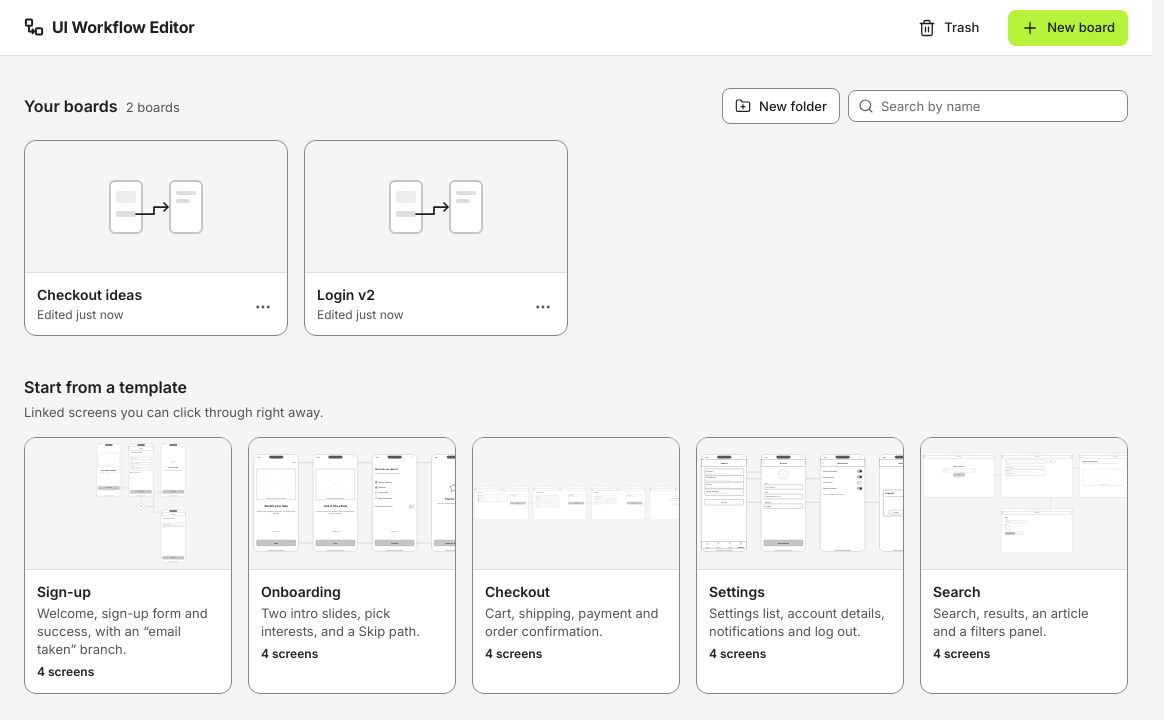
Test: DashboardPage › filters by name and offers to clear the search
Type "CHECK" into the search field named "Search boards" at (988, 106), box [848,90,1128,122]
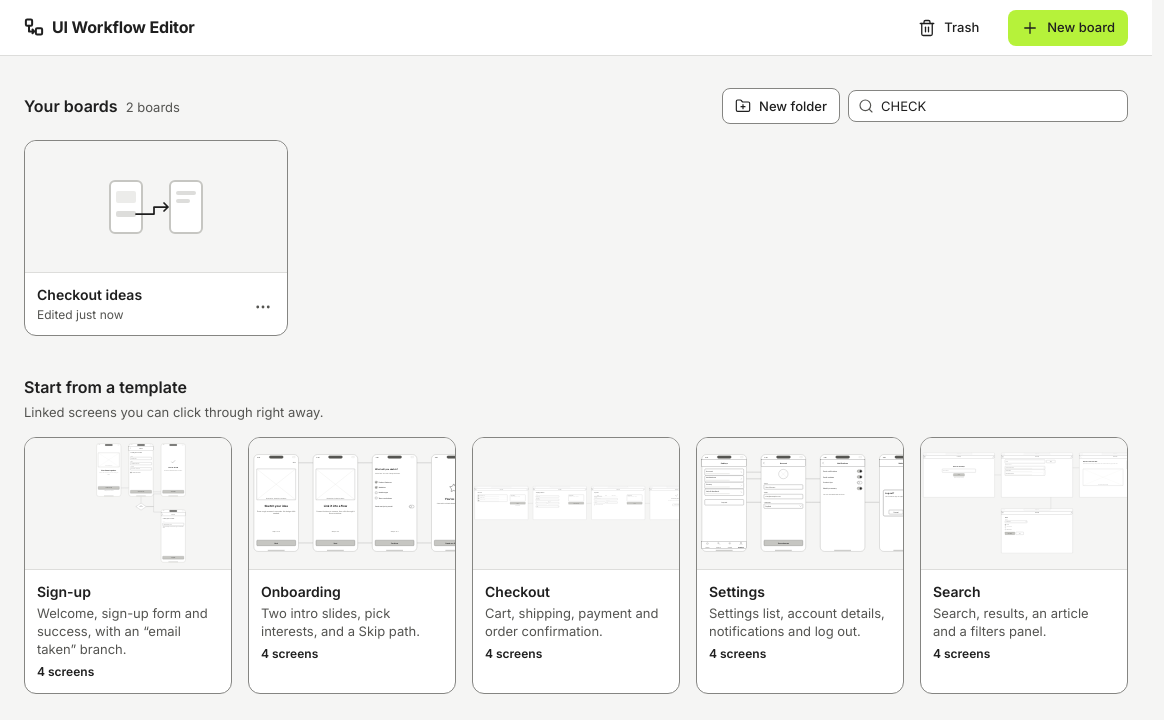
Expected: the number of list items with test id "board-card" is 1, [24,140,288,336]
Expected: the text "Checkout ideas" is shown, [37,286,142,303]
Replace the text in the search field named "Search boards" with "zzz" at (988, 106), box [848,90,1128,122]
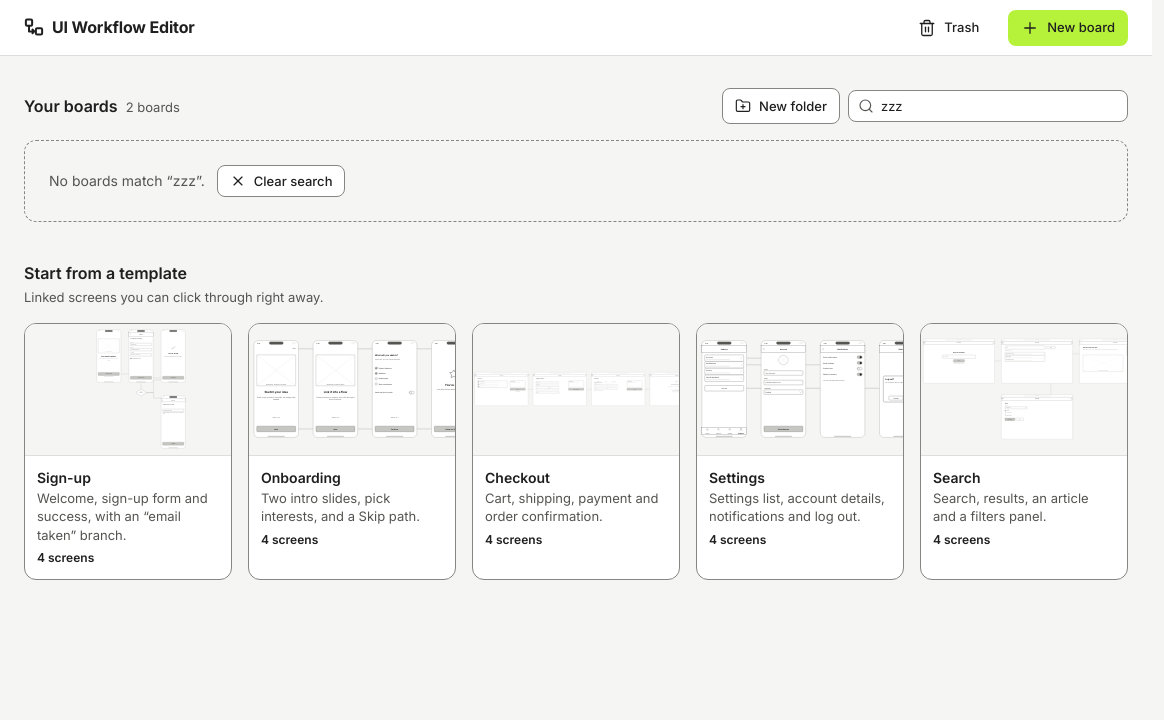
Now the text "No boards match “zzz”." is shown, box [49,171,205,191]
Click the button "Clear search" at (281, 181), box [217,165,346,197]
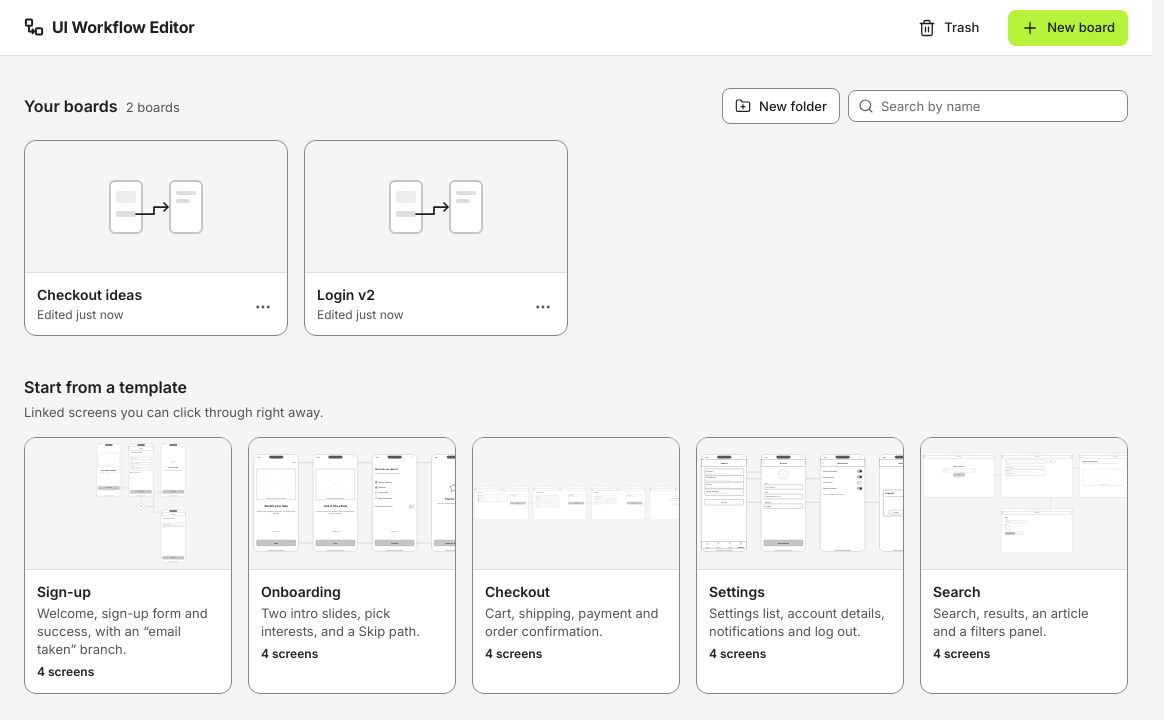
Now the number of list items with test id "board-card" is 2, box [24,140,288,336]; [304,140,568,336]
